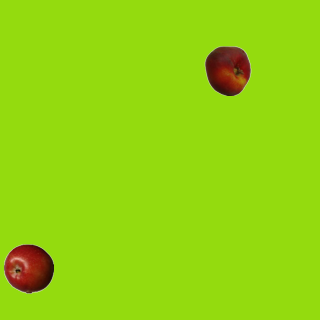Apple Braeburn: (3, 243, 53, 293)
Nectarine Flat: (202, 45, 252, 95)
